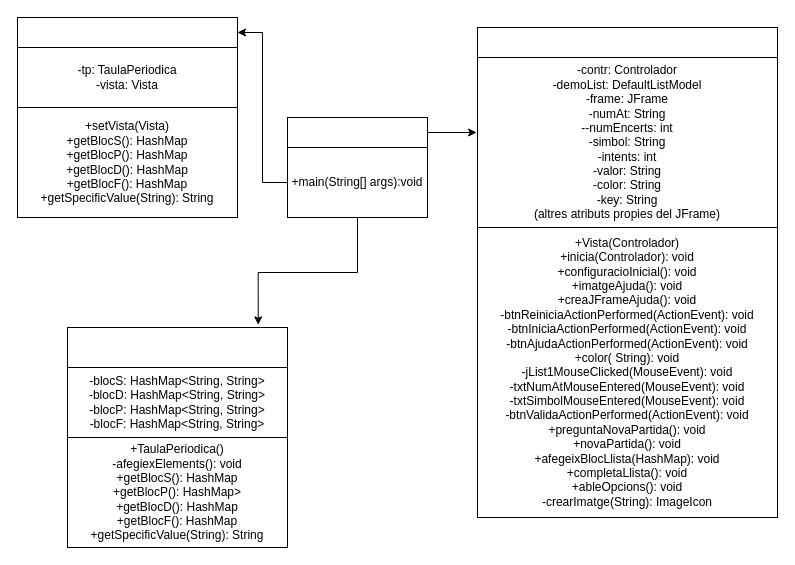
This 795x565 diagram has some shape labels left out. Here are the shapes that lost their labels. From the top down, the centre of each, then its label:
At [127,32]: "Controlador".
At [627,42]: "Vista".
At [357,132]: "Principal".
At [177,347]: "TaulaPeriodica".
